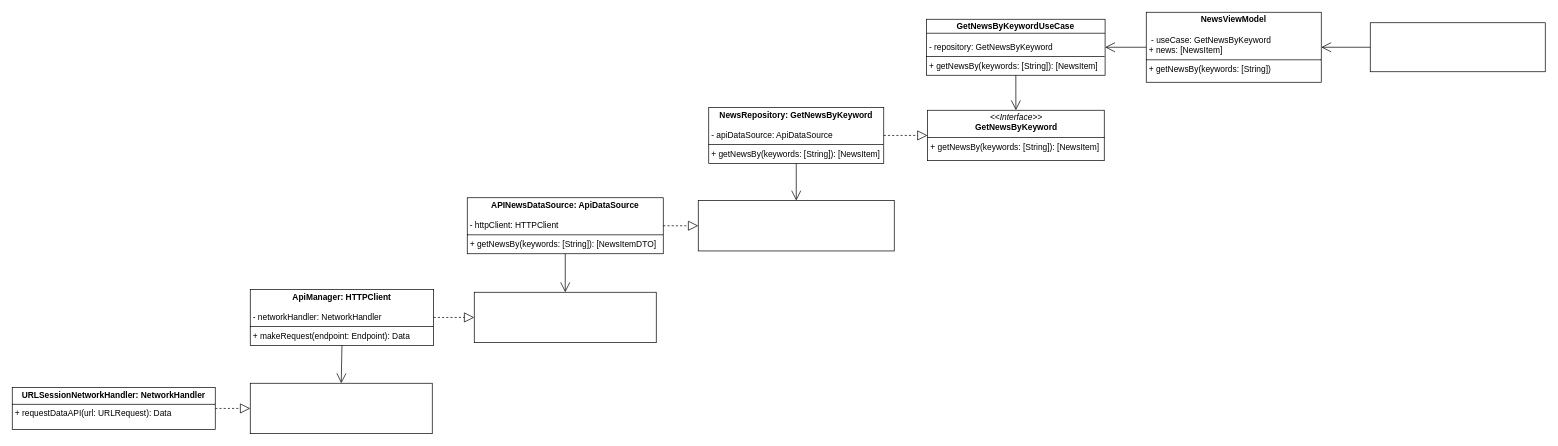
The diagram is 1558 pixels wide and 446 high, and some of its shapes have lost their labels. Each missing label, with the centre of its shape:
"<<Interface>> ApiDataSource + getNewsBy(keywords: [String]): [ NewsItemDTO ]" goes at (796,225).
"<<Interface>> HTTPClient + makeRequest(endpoint: Endpoint): Data" goes at (565,317).
"<<Interface>> NetworkHandler + requestDataAPI(url: URLRequest): Data" goes at (341,408).
"NewsView - viewmodel: NewsViewModel" goes at (1457,47).
